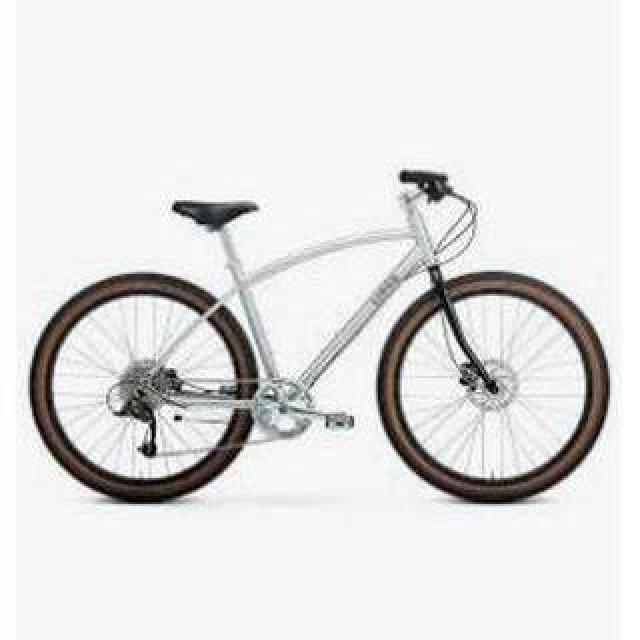Person: (26, 170, 612, 508)
